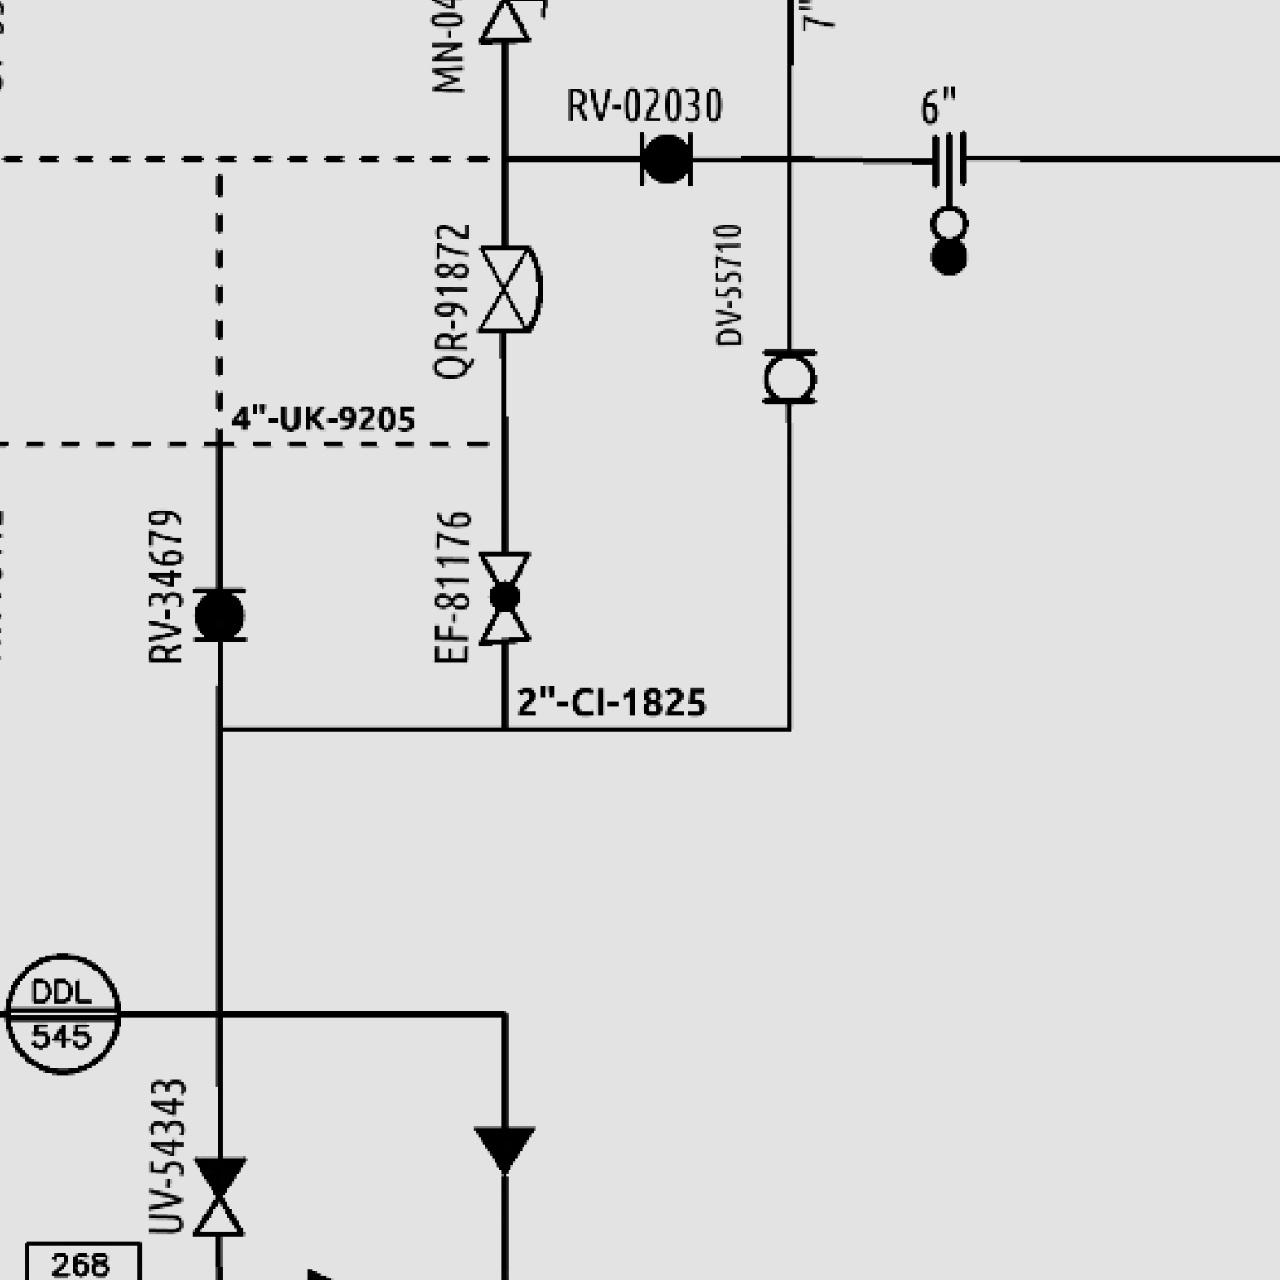Half closed valve: (188, 1152, 248, 1239)
